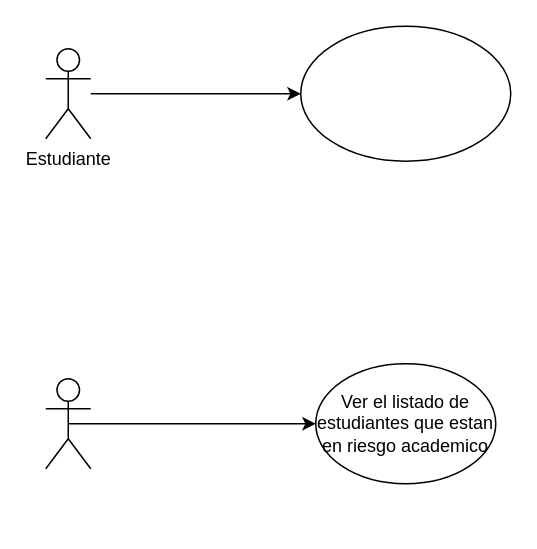
This 537x549 diagram has some shape labels left out. The centre of each missing label's shape, as x and y in pixels:
Calcular el promedio ponderado del estudiante: the point at 405,93
Profesor: the point at 67,423
